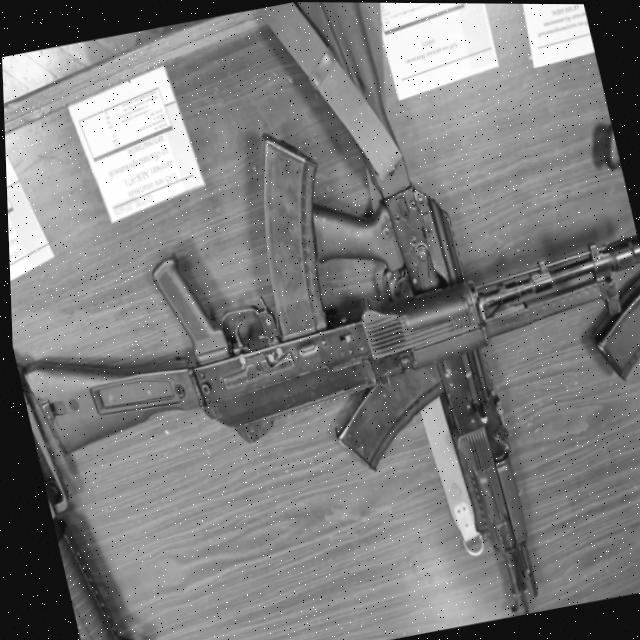firearm: (2, 57, 640, 485), (265, 2, 546, 636), (539, 93, 640, 590), (12, 351, 159, 640)
